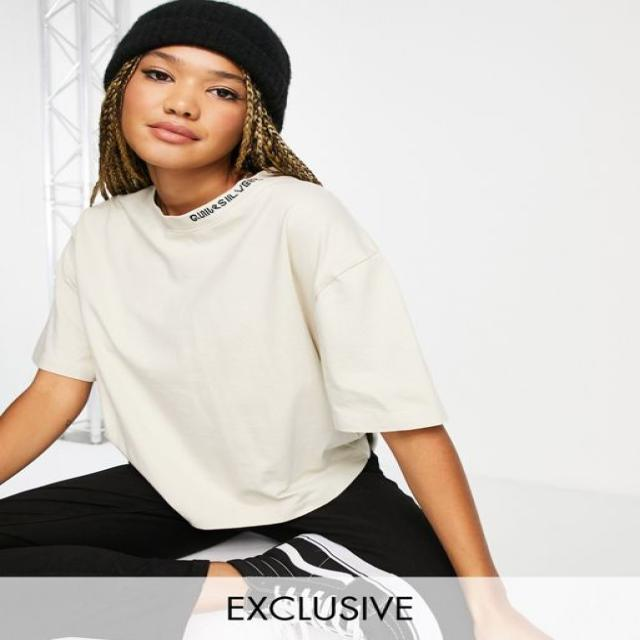tshirt: (30, 168, 448, 530)
